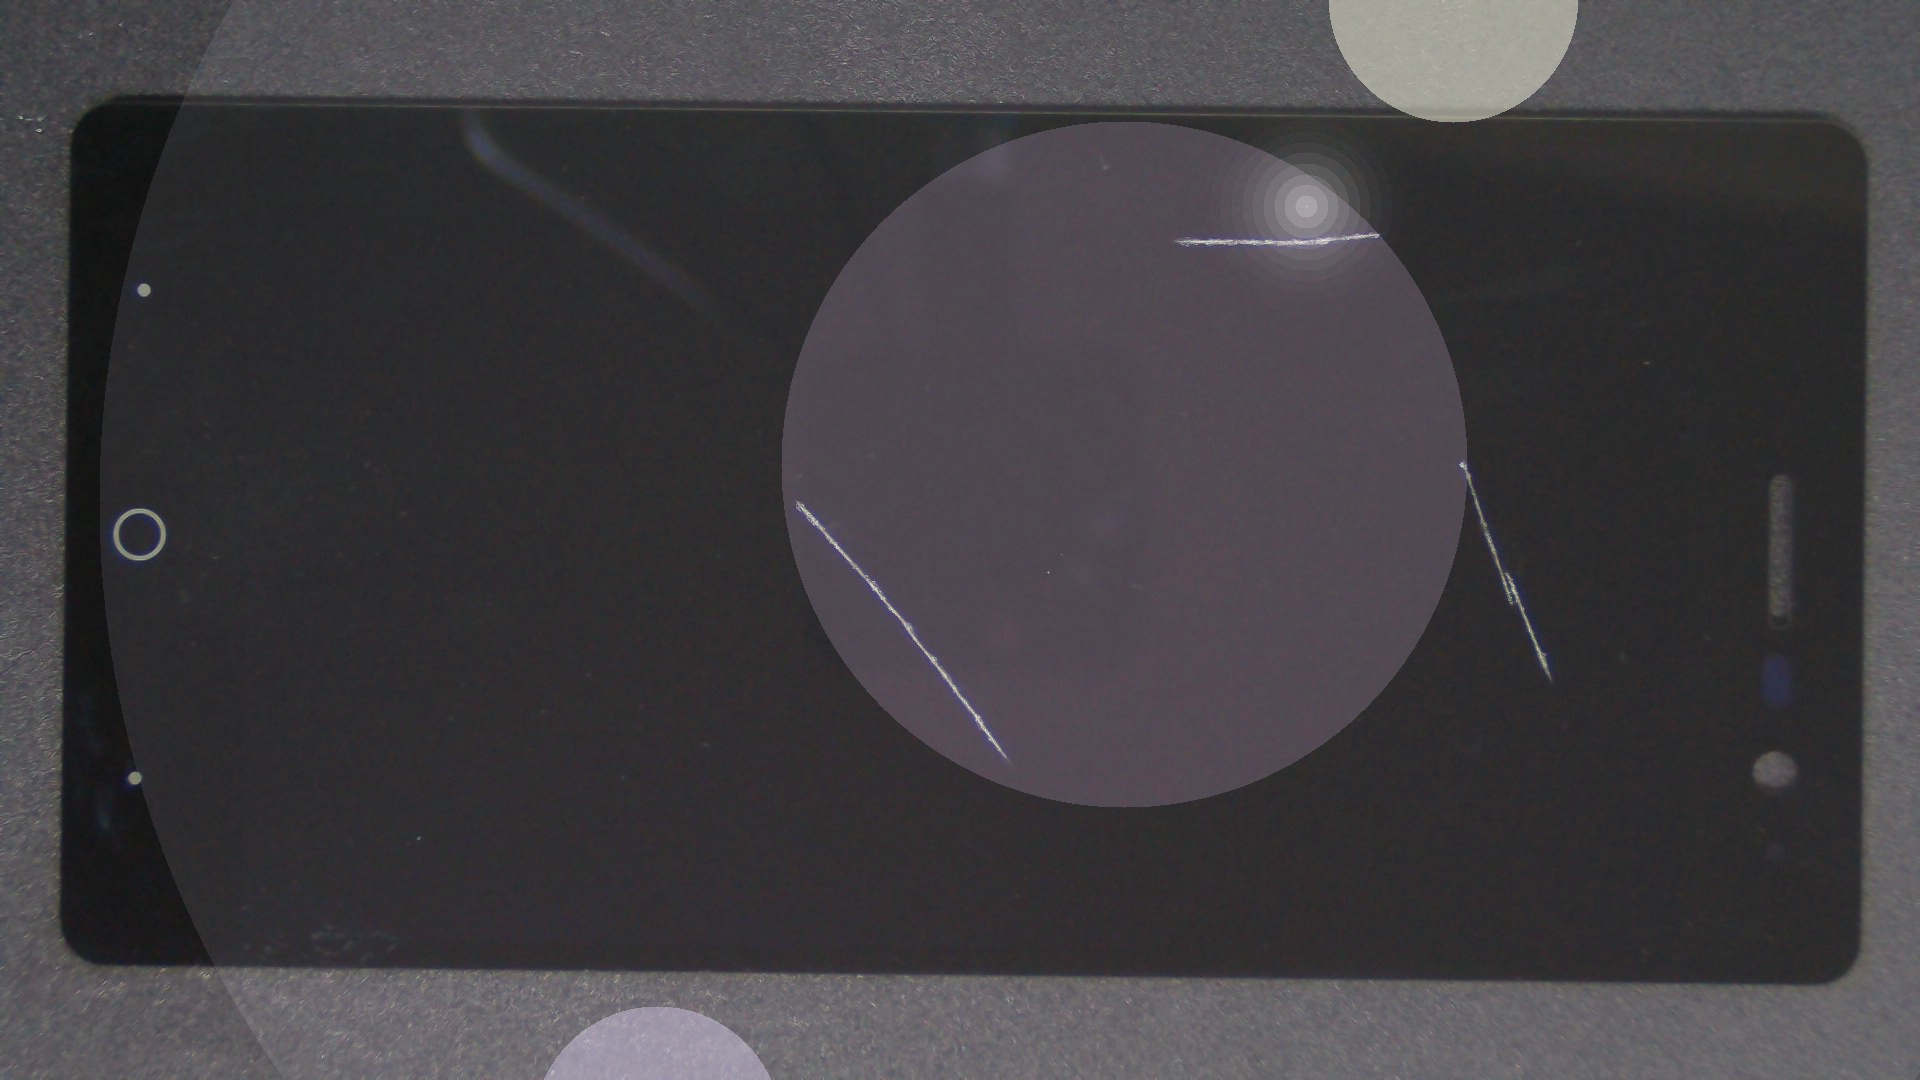oil: (732, 229, 1920, 688), (397, 247, 1192, 752), (690, 115, 1920, 347)
